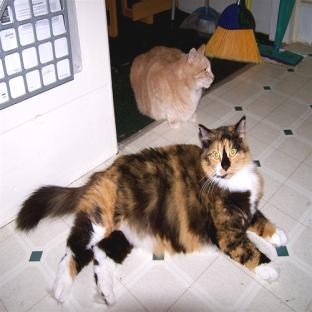Animal: (17, 116, 287, 305), (130, 45, 214, 127)
